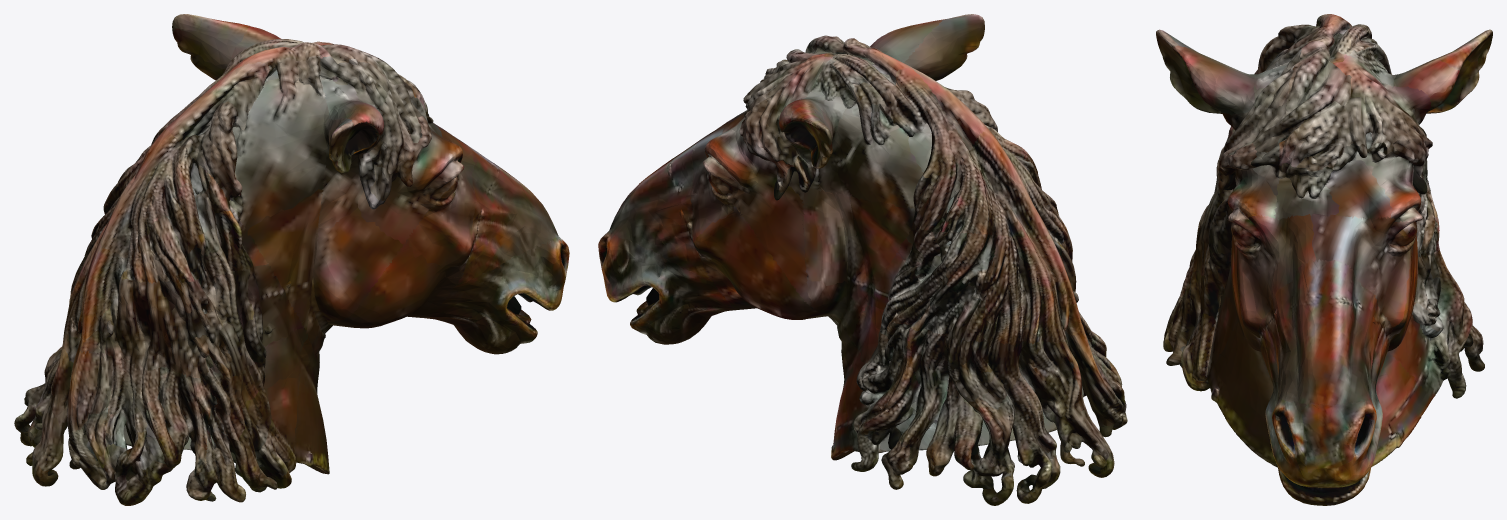
3 views of the same model, side by side, from view 1: azimuth 30°, elevation 25°; view 2: azimuth 150°, elevation 25°; view 3: azimuth 270°, elevation 25° (orthographic). The views are drawn at different scales.
Parts seen in each view (by area): view 1: tripo_node_d5e21edf-36cf-4b26-b0bd-8fab23b9c29e; view 2: tripo_node_d5e21edf-36cf-4b26-b0bd-8fab23b9c29e; view 3: tripo_node_d5e21edf-36cf-4b26-b0bd-8fab23b9c29e.
Part boxes in pixels (box(x1,y1,x2,y2)): tripo_node_d5e21edf-36cf-4b26-b0bd-8fab23b9c29e: box(14, 14, 569, 505); tripo_node_d5e21edf-36cf-4b26-b0bd-8fab23b9c29e: box(598, 14, 1127, 505); tripo_node_d5e21edf-36cf-4b26-b0bd-8fab23b9c29e: box(1156, 14, 1492, 505).
Bounding box in the file's own units: 0.9998 × 0.7722 × 0.5346.
1 material, 1 textured.
